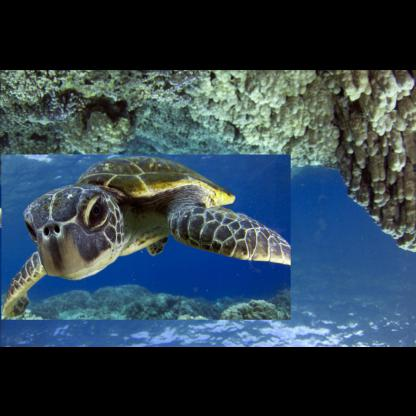turtle: (0, 154, 289, 318)
